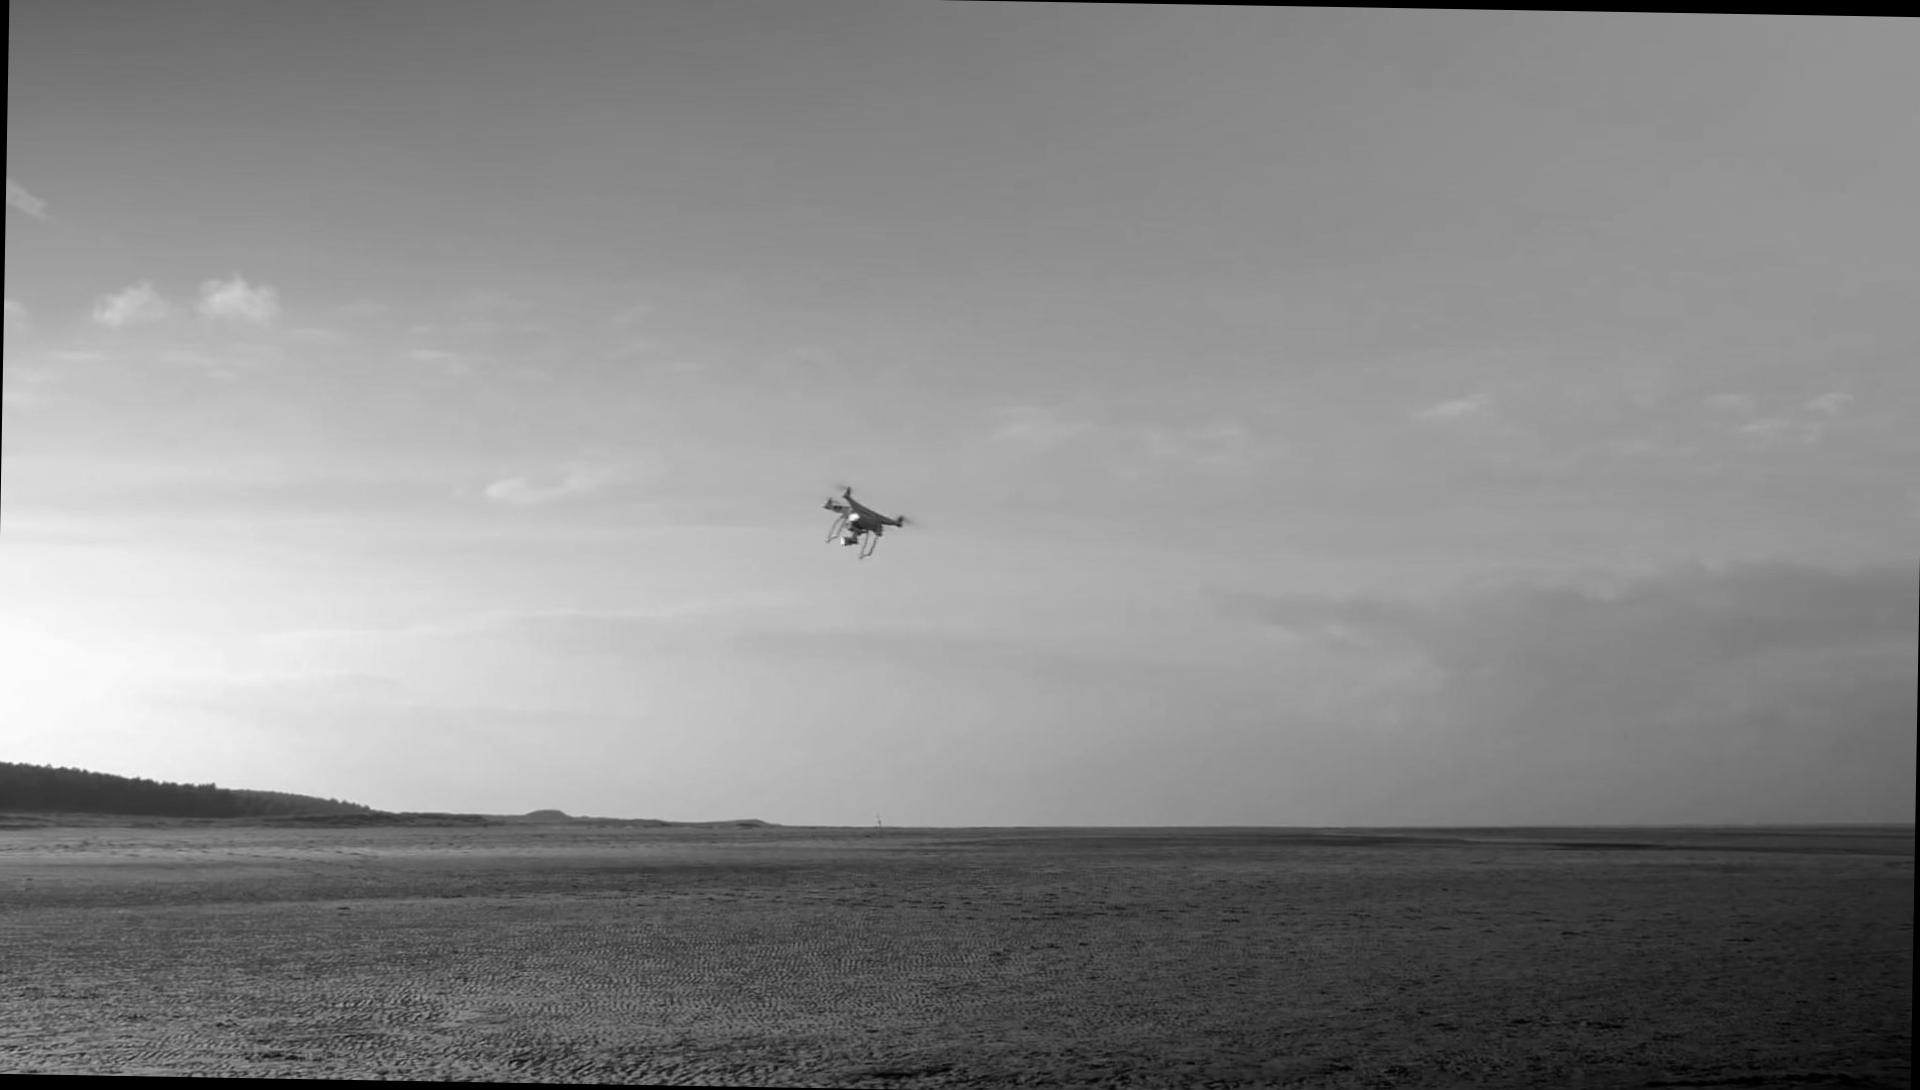drone: (814, 476, 913, 560)
